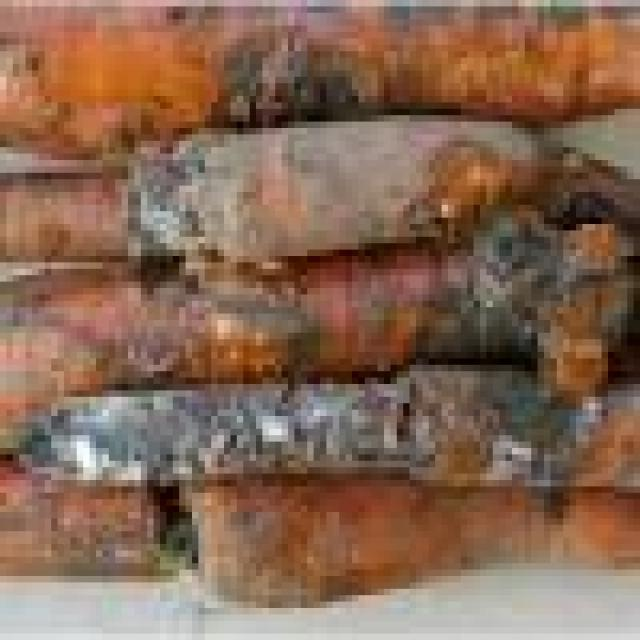Stale_Carrot: (119, 189, 609, 362), (32, 365, 640, 493), (150, 0, 639, 144), (117, 128, 598, 228)
